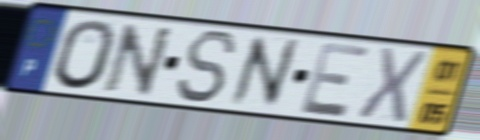E: (298, 39, 375, 120)
N: (100, 21, 177, 99), (227, 33, 302, 109)
O: (52, 17, 119, 93)
S: (174, 28, 240, 107)
X: (353, 44, 431, 125)
